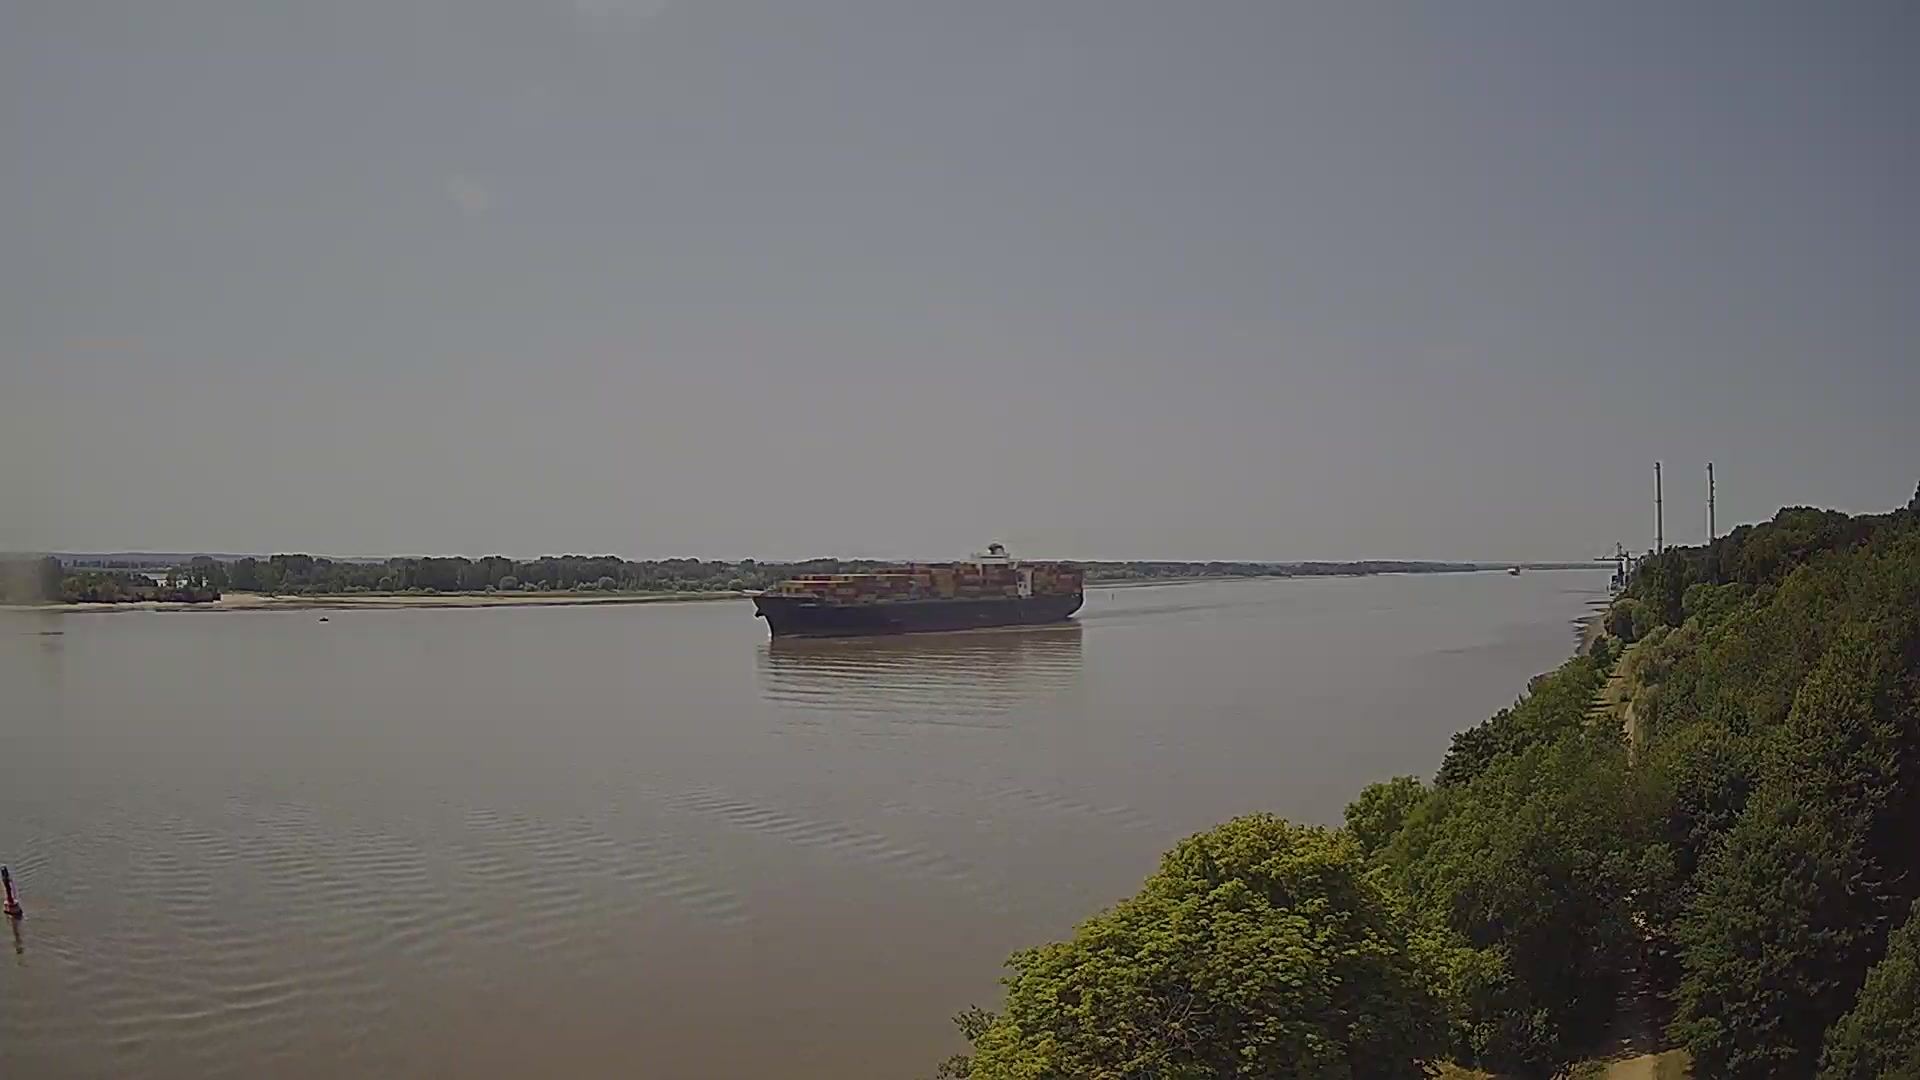sea: (752, 541, 1085, 641), (1506, 564, 1520, 575)
